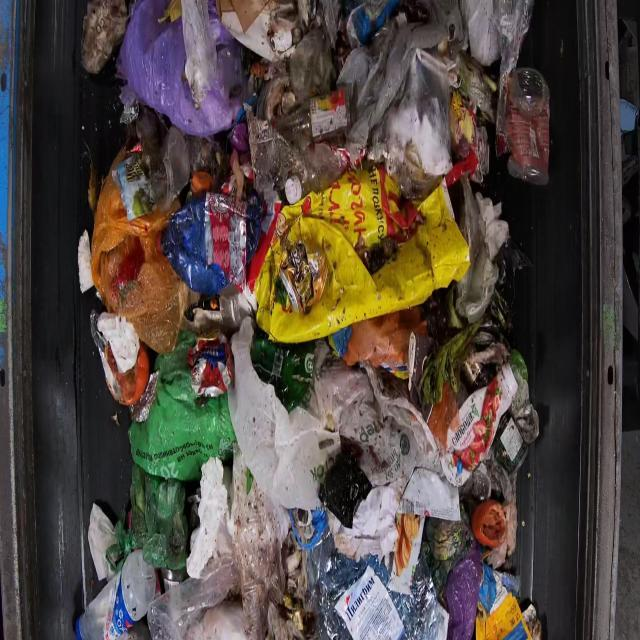E-waste: (74, 0, 550, 639)
bottles: (502, 66, 551, 185)
